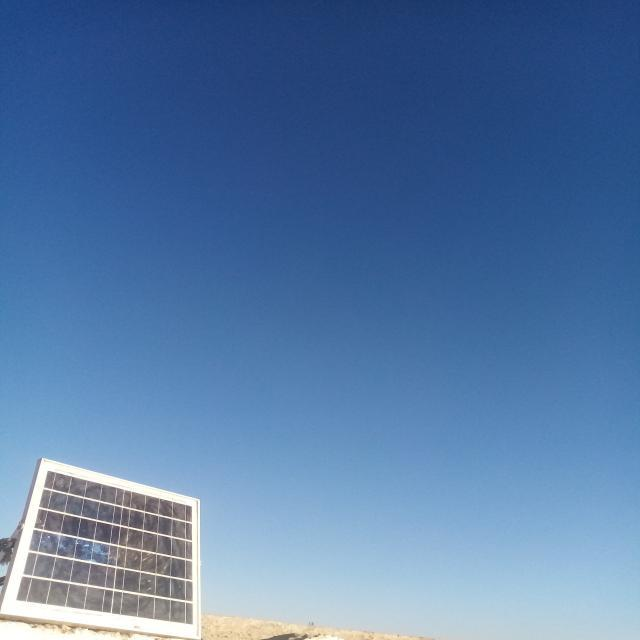faulty: (0, 459, 200, 638)
